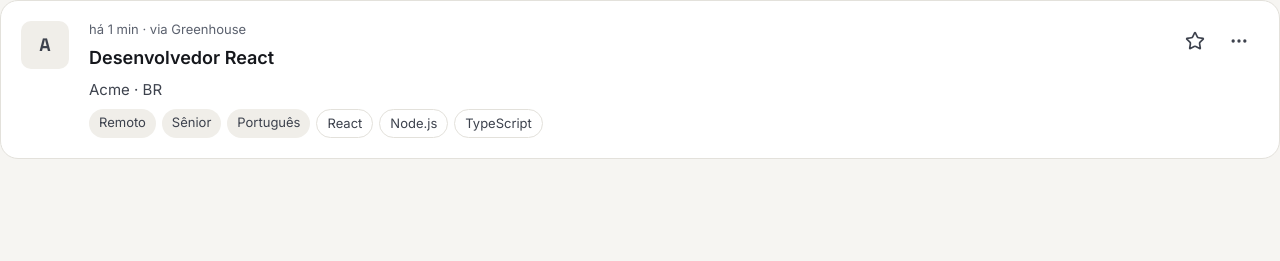
Test: JobCard › menu ⋯ oferece Mudar status, Ocultar vaga e Copiar link
Press Enter in the button named "Mais ações", box x1=1219 y1=21 x2=1259 y2=61
Click the button named "Mais ações": coordinates (1239, 41) x1=1219 y1=21 x2=1259 y2=61
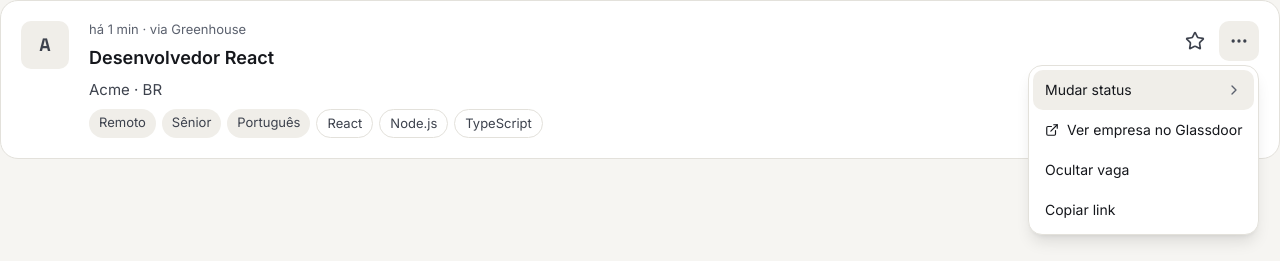
Check: the menu item "Mudar status" is shown, box x1=1033 y1=70 x2=1254 y2=110
Check: the menu item "Ocultar vaga" is shown, box x1=1045 y1=161 x2=1129 y2=178
Check: the menu item "Copiar link" is shown, box x1=1045 y1=201 x2=1115 y2=218
